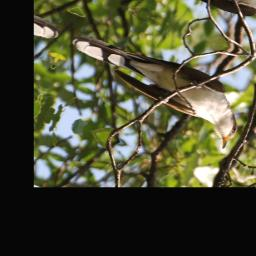Cuckoo: (51, 23, 255, 152)
